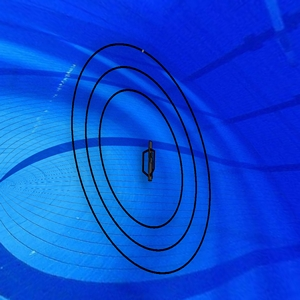circle: (69, 41, 216, 277)
submarine: (138, 139, 162, 184)
